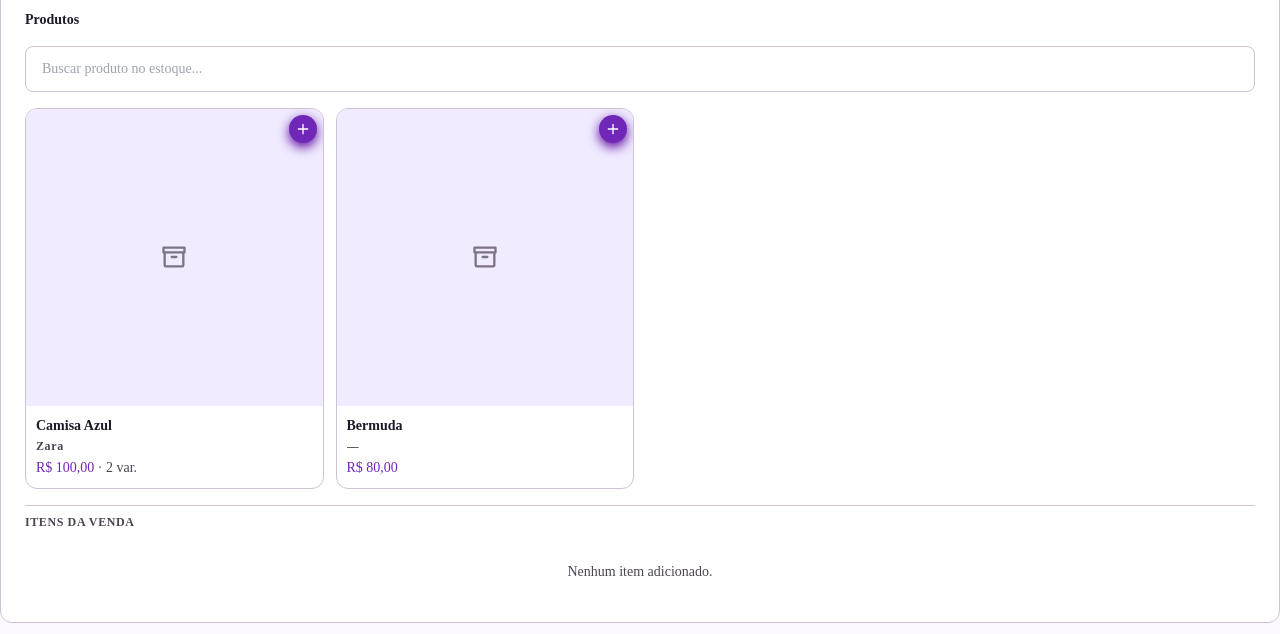
Test: NewSaleForm › opens a variant picker for a multi-variant product
Click the button named "camisa azul — escolher variante": click(174, 257) top-left (26, 109), bottom-right (322, 406)
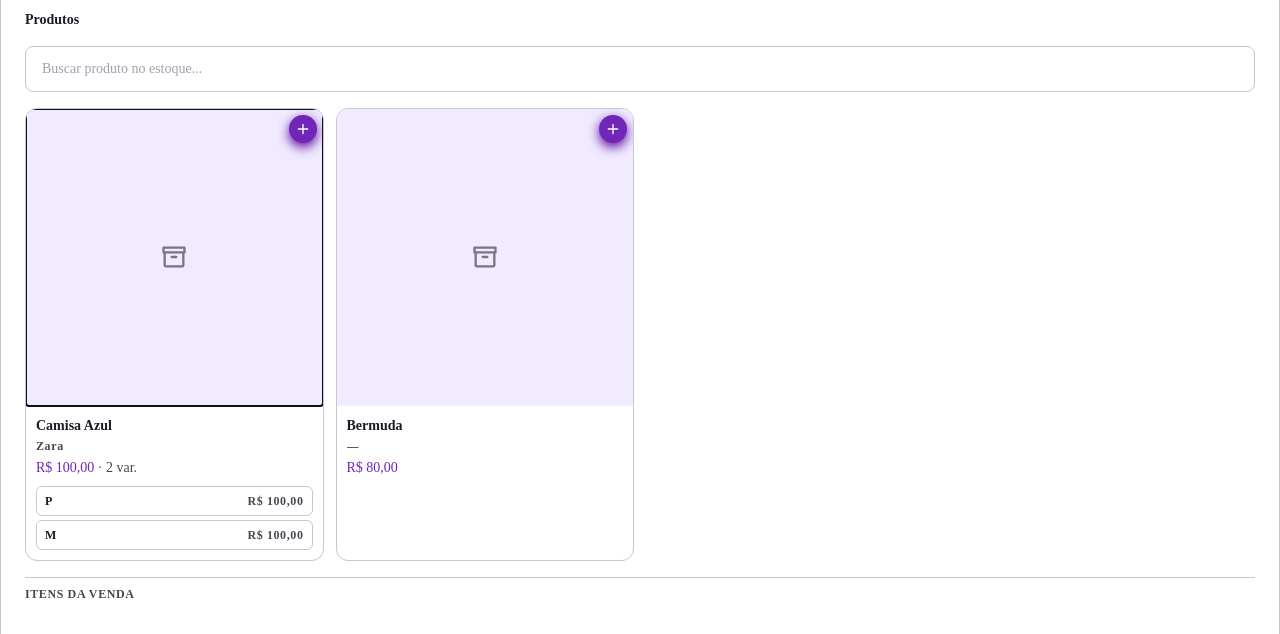
Click the button "P R$ 100,00": click(275, 500) top-left (36, 486), bottom-right (312, 516)
(page scrolled)
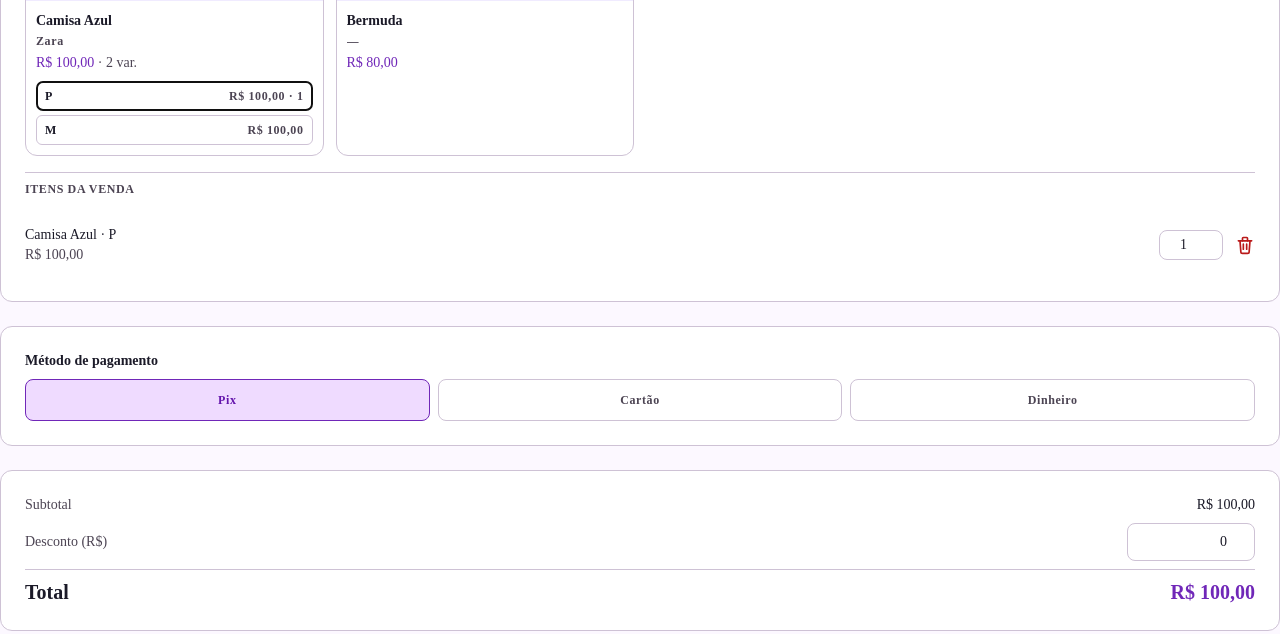
Result: the text "Camisa Azul · P" is shown at top-left (25, 226), bottom-right (116, 242)
